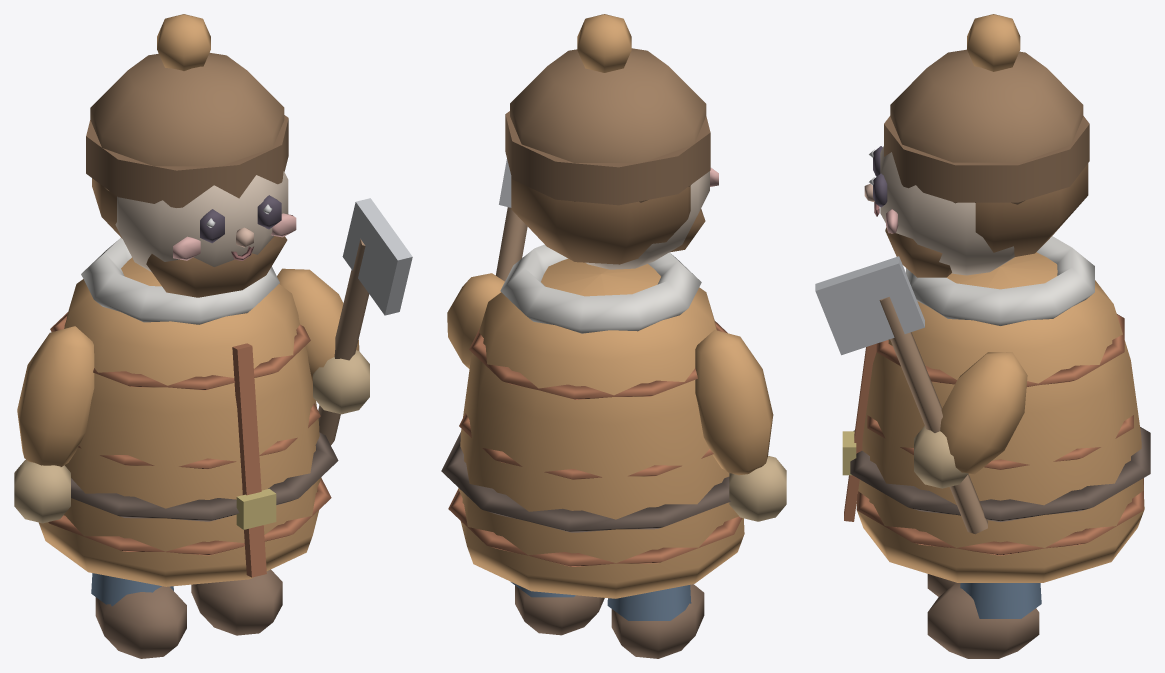
Rendered from woodcutter_lv1.glb.
3 renders of one model, left to right at view 1: azimuth 30°, elevation 25°; view 2: azimuth 150°, elevation 25°; view 3: azimuth 270°, elevation 25°, orthographic.
Parts seen in each view (by area): view 1: woodcutter_lv1; view 2: woodcutter_lv1; view 3: woodcutter_lv1.
Part boxes in pixels (x1,y1,x2,y2): woodcutter_lv1: (14,14,412,658); woodcutter_lv1: (441,14,786,658); woodcutter_lv1: (815,14,1150,658).
Size of the model in its own units: 1.12 by 1.99 by 0.9773.
